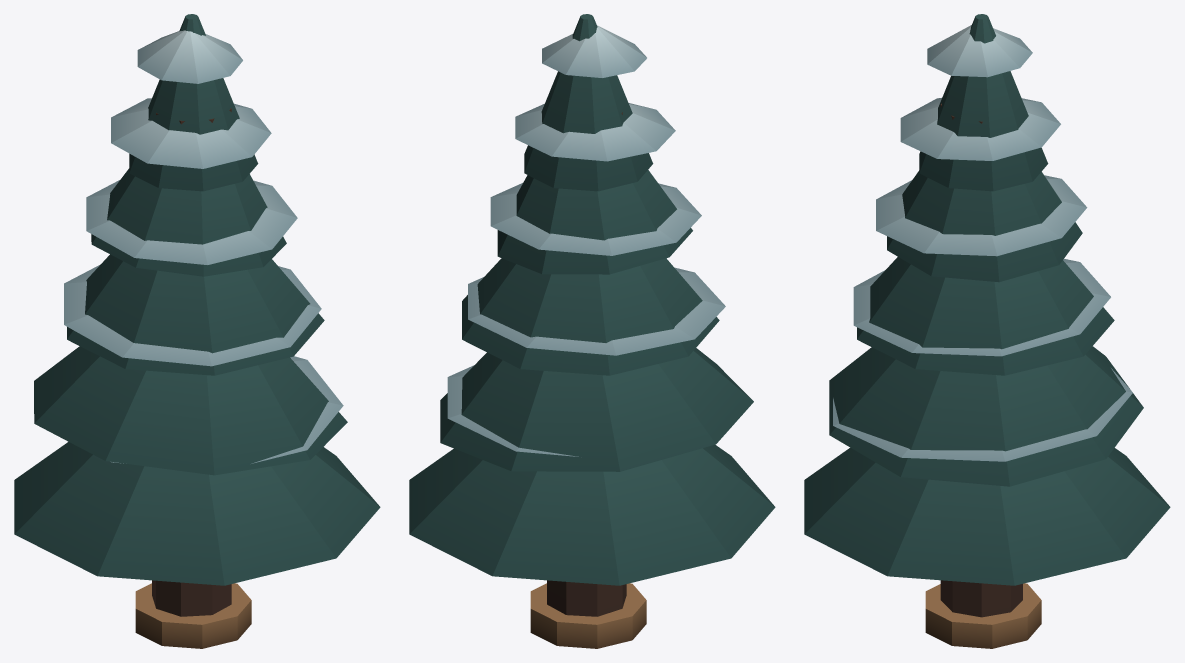
The model's file is pine-sentinel.glb.
3 views of the same model, side by side, from view 1: azimuth 30°, elevation 25°; view 2: azimuth 150°, elevation 25°; view 3: azimuth 270°, elevation 25° (orthographic).
Parts seen in each view (by area): view 1: WorldPineSentinelR13_R13 Pine Sentinel Needles_Batch, WorldPineSentinelR13_R13 Shared Pine Snow_Batch, WorldPineSentinelR13_R13 Shared Pine Cut_Batch, WorldPineSentinelR13_R13 Shared Pine Bark_Batch; view 2: WorldPineSentinelR13_R13 Pine Sentinel Needles_Batch, WorldPineSentinelR13_R13 Shared Pine Snow_Batch, WorldPineSentinelR13_R13 Shared Pine Cut_Batch, WorldPineSentinelR13_R13 Shared Pine Bark_Batch; view 3: WorldPineSentinelR13_R13 Pine Sentinel Needles_Batch, WorldPineSentinelR13_R13 Shared Pine Snow_Batch, WorldPineSentinelR13_R13 Shared Pine Cut_Batch, WorldPineSentinelR13_R13 Shared Pine Bark_Batch.
Part boxes in pixels (box(x1,y1,x2,y2)): WorldPineSentinelR13_R13 Pine Sentinel Needles_Batch: box(14, 14, 380, 585); WorldPineSentinelR13_R13 Shared Pine Snow_Batch: box(64, 30, 343, 463); WorldPineSentinelR13_R13 Shared Pine Cut_Batch: box(135, 583, 251, 648); WorldPineSentinelR13_R13 Shared Pine Bark_Batch: box(152, 108, 231, 616); WorldPineSentinelR13_R13 Pine Sentinel Needles_Batch: box(409, 14, 775, 585); WorldPineSentinelR13_R13 Shared Pine Snow_Batch: box(447, 25, 725, 456); WorldPineSentinelR13_R13 Shared Pine Cut_Batch: box(530, 583, 646, 648); WorldPineSentinelR13_R13 Shared Pine Bark_Batch: box(547, 112, 626, 616); WorldPineSentinelR13_R13 Pine Sentinel Needles_Batch: box(804, 14, 1170, 585); WorldPineSentinelR13_R13 Shared Pine Snow_Batch: box(833, 25, 1132, 461); WorldPineSentinelR13_R13 Shared Pine Cut_Batch: box(925, 583, 1041, 648); WorldPineSentinelR13_R13 Shared Pine Bark_Batch: box(940, 103, 1022, 617).
Size of the model in its own units: 2.8 by 5.04 by 2.75.
